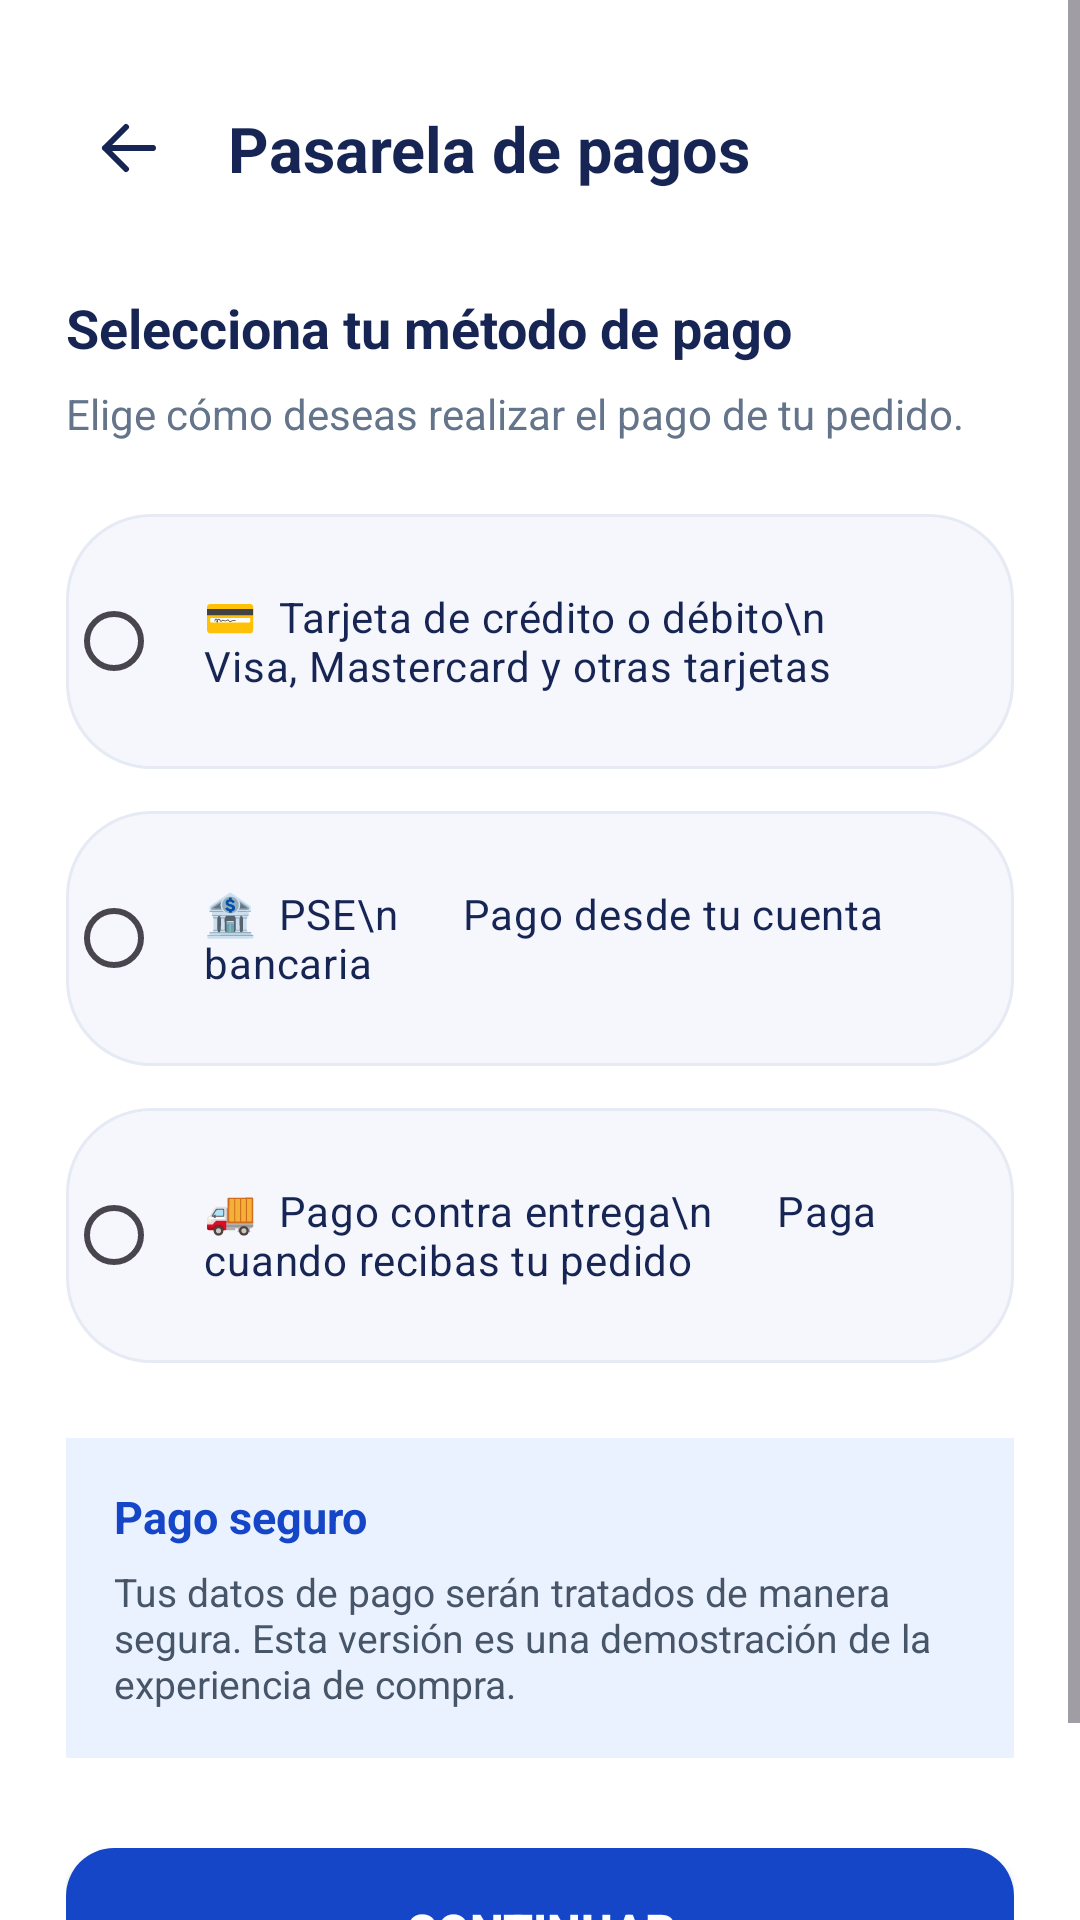

Icon click points for this 1080×1920 phone screenshot, format point (x, y):
Volver: point (129, 148)
